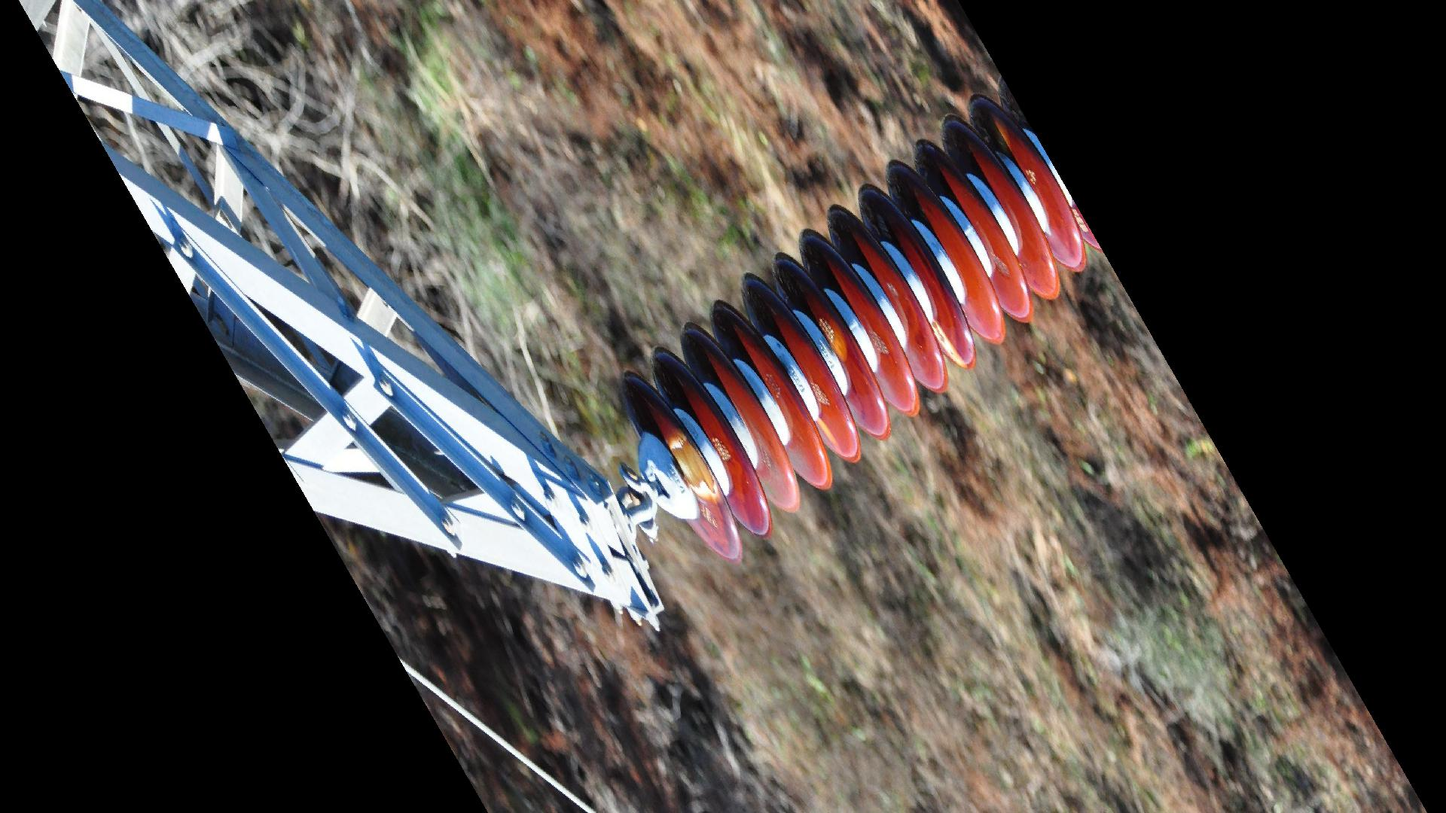insulator: (616, 86, 1103, 567)
insulator_flashover: (667, 431, 718, 499), (929, 316, 969, 371), (814, 416, 838, 446)
